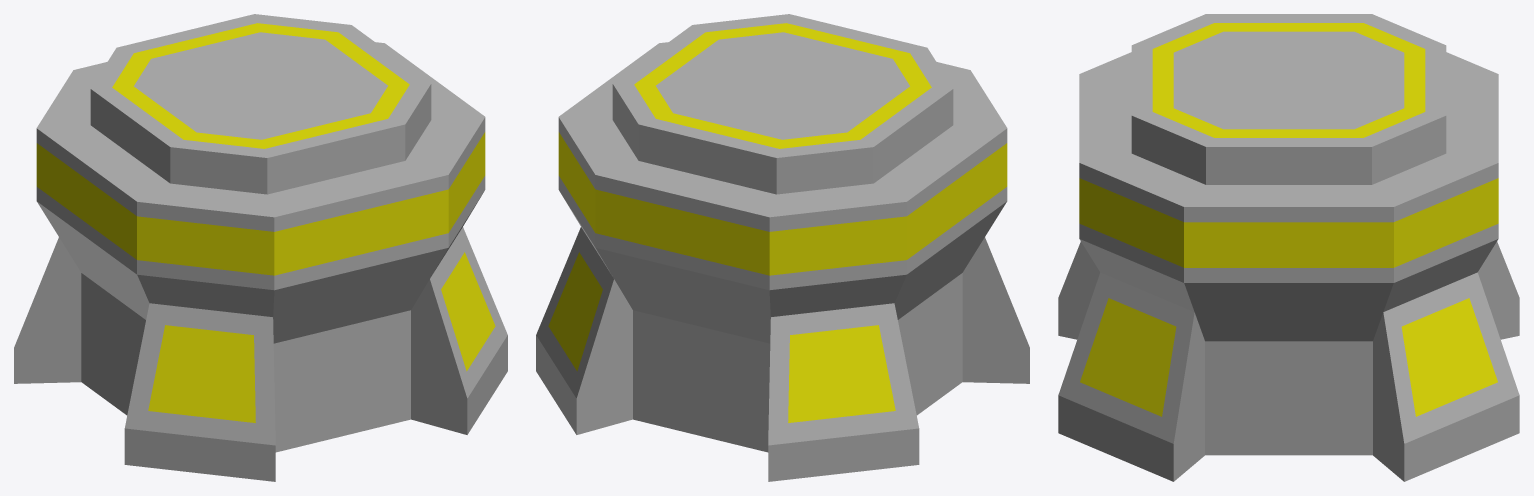
File: Archer Tower lev 3.fbx
3 views of the same model, side by side, from view 1: azimuth 30°, elevation 25°; view 2: azimuth 150°, elevation 25°; view 3: azimuth 270°, elevation 25° (orthographic). The views are drawn at different scales.
Parts seen in each view (by area): view 1: Torre Wizzard.029; view 2: Torre Wizzard.029; view 3: Torre Wizzard.029.
Part boxes in pixels (<box>): Torre Wizzard.029: <box>14,14,507,481</box>; Torre Wizzard.029: <box>536,14,1029,481</box>; Torre Wizzard.029: <box>1058,14,1519,481</box>.
Bounding box in the file's own units: 16.5 × 12 × 16.5.
